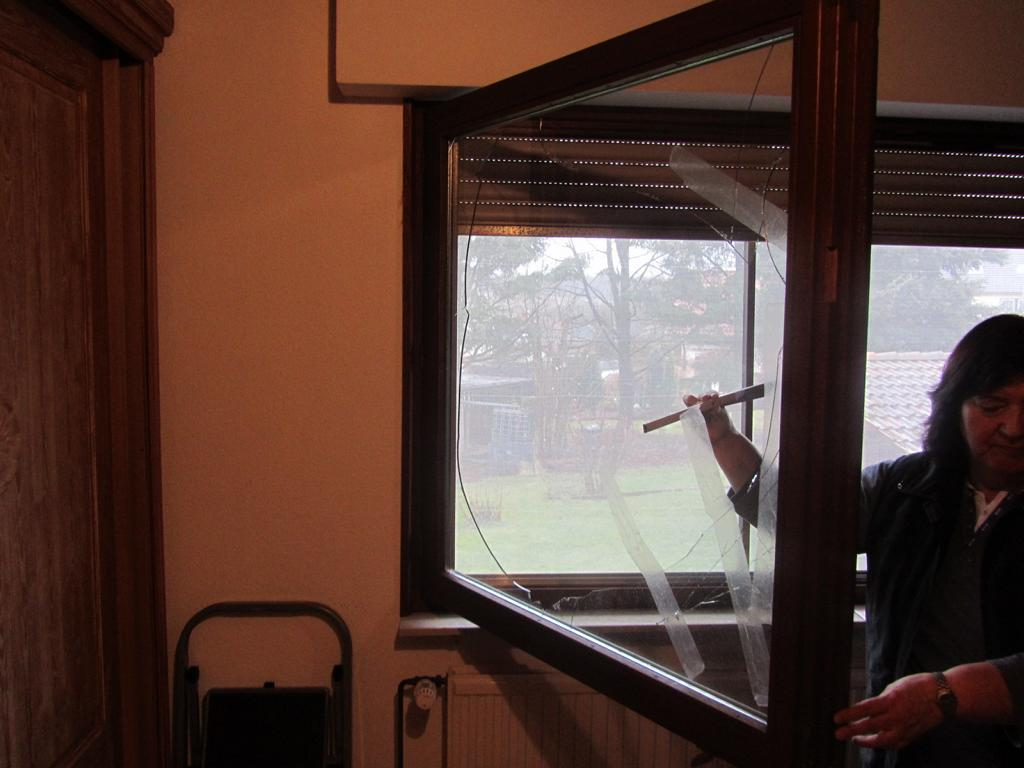windows: (440, 92, 782, 697)
